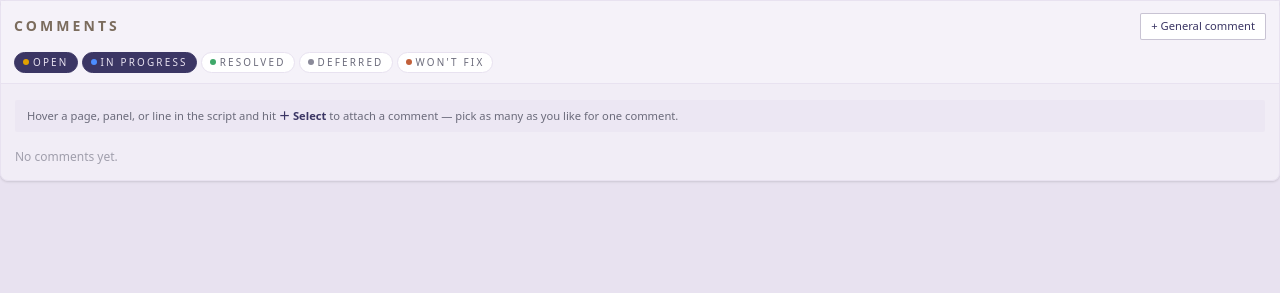
Scenario: CommentGutter › General comment button opens the composer
Click the button "+ General comment": (1203, 26) left=1140, top=13, right=1266, bottom=40
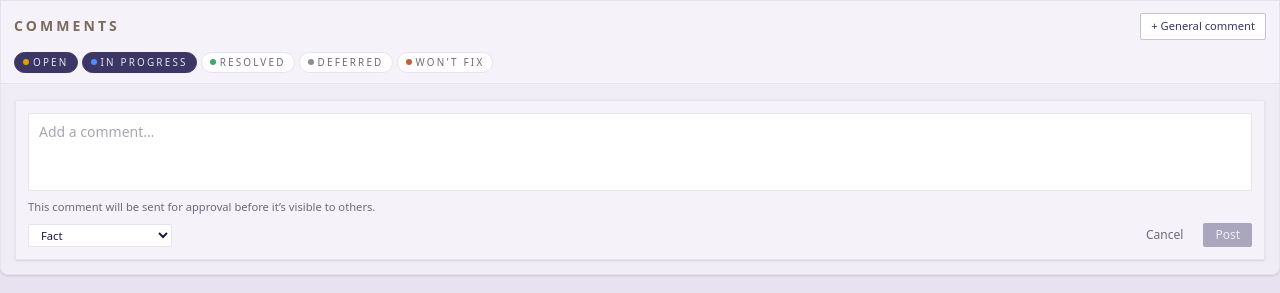
Result: the text box is shown at left=28, top=113, right=1252, bottom=191
